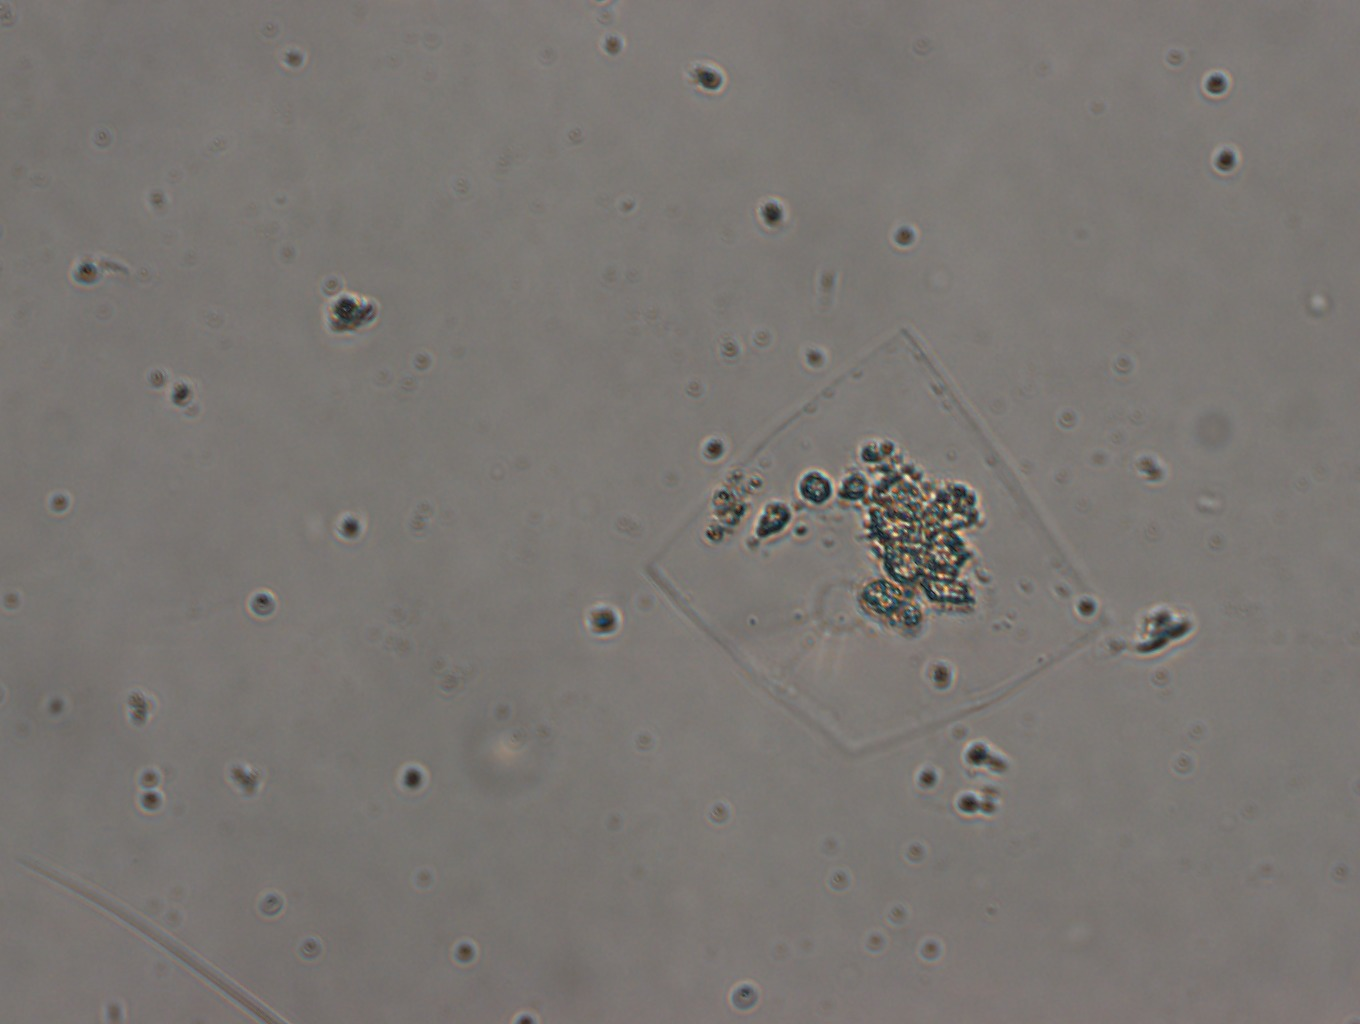helicotheca: (638, 322, 1111, 758)
